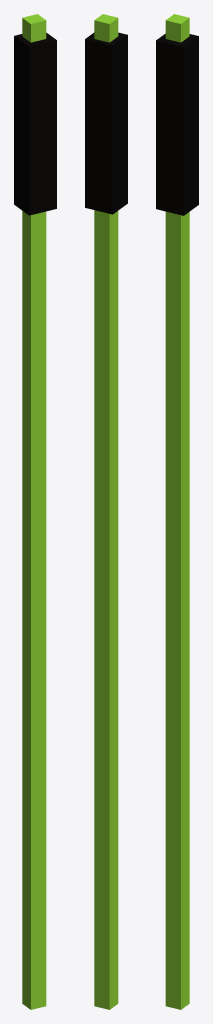
Rendered from quenouille.FBX.
3 renders of one model, left to right at view 1: azimuth 30°, elevation 25°; view 2: azimuth 150°, elevation 25°; view 3: azimuth 330°, elevation 25°, orthographic.
Visible parts, largest first — view 1: Box001, Box002; view 2: Box001, Box002; view 3: Box001, Box002.
Part boxes in pixels (x1,y1,x2,y2): Box001: (22,14,46,1009); Box002: (14,32,56,215); Box001: (94,14,118,1009); Box002: (85,32,127,214); Box001: (165,14,189,1009); Box002: (156,33,198,215).
Bounding box in the file's own units: 0.8147 × 27.65 × 0.7677.
